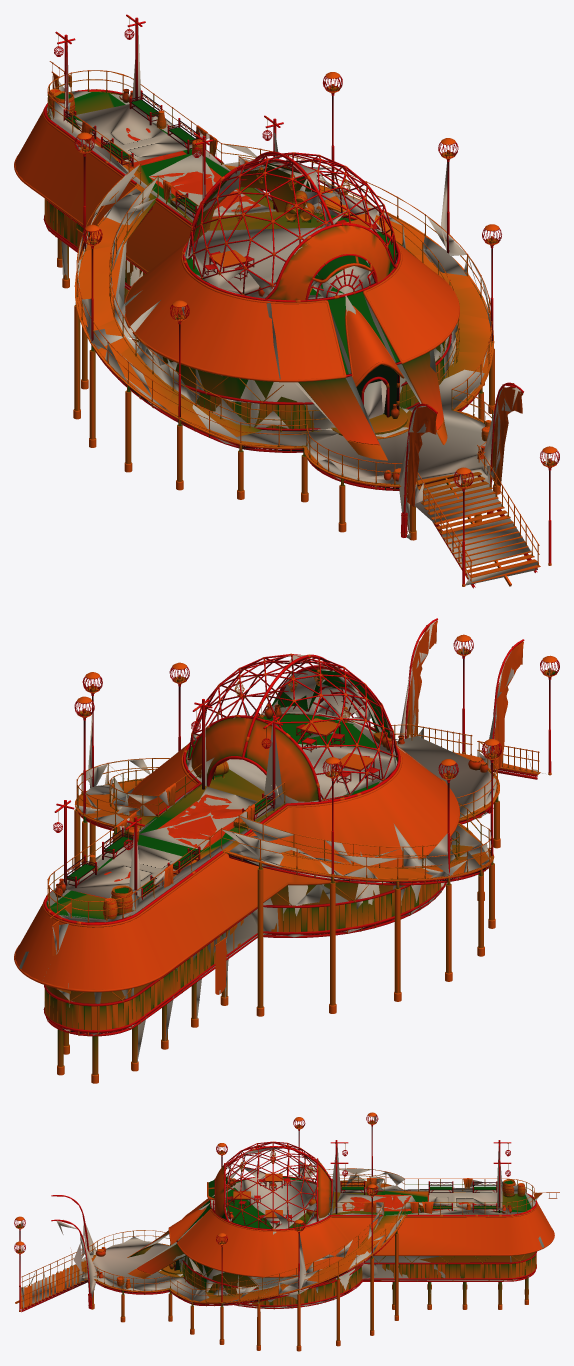
Rendered from KB3D_GAE_BldgMD_B.glb.
3 renders of one model, top to bottom at view 1: azimuth 30°, elevation 25°; view 2: azimuth 150°, elevation 25°; view 3: azimuth 270°, elevation 25°, orthographic. The views are drawn at different scales.
Visible parts, largest first — view 1: L0, L2, L1; view 2: L0, L1, L2; view 3: L0, L2, L1.
Part boxes in pixels (box(x1,y1,x2,y2)): L0: box(14, 14, 559, 588); L2: box(47, 25, 548, 585); L1: box(24, 18, 558, 587); L0: box(14, 618, 559, 1083); L1: box(43, 623, 559, 1032); L2: box(19, 622, 550, 1062); L0: box(14, 1112, 559, 1351); L2: box(20, 1116, 544, 1309); L1: box(15, 1115, 541, 1329).
Size of the model in its own units: 21.67 by 14.82 by 46.43.
